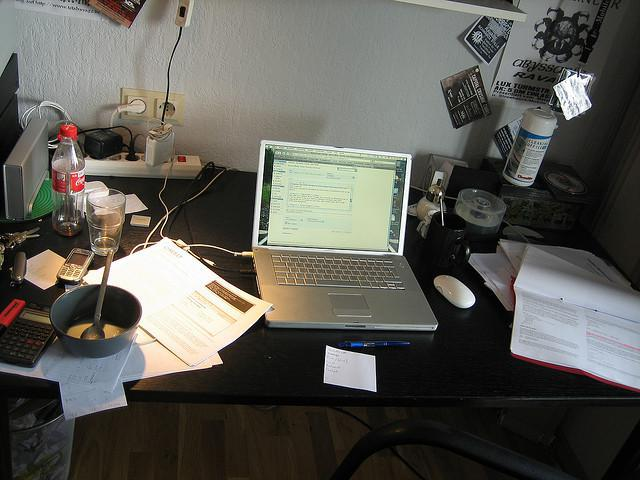tv: (250, 138, 438, 337)
